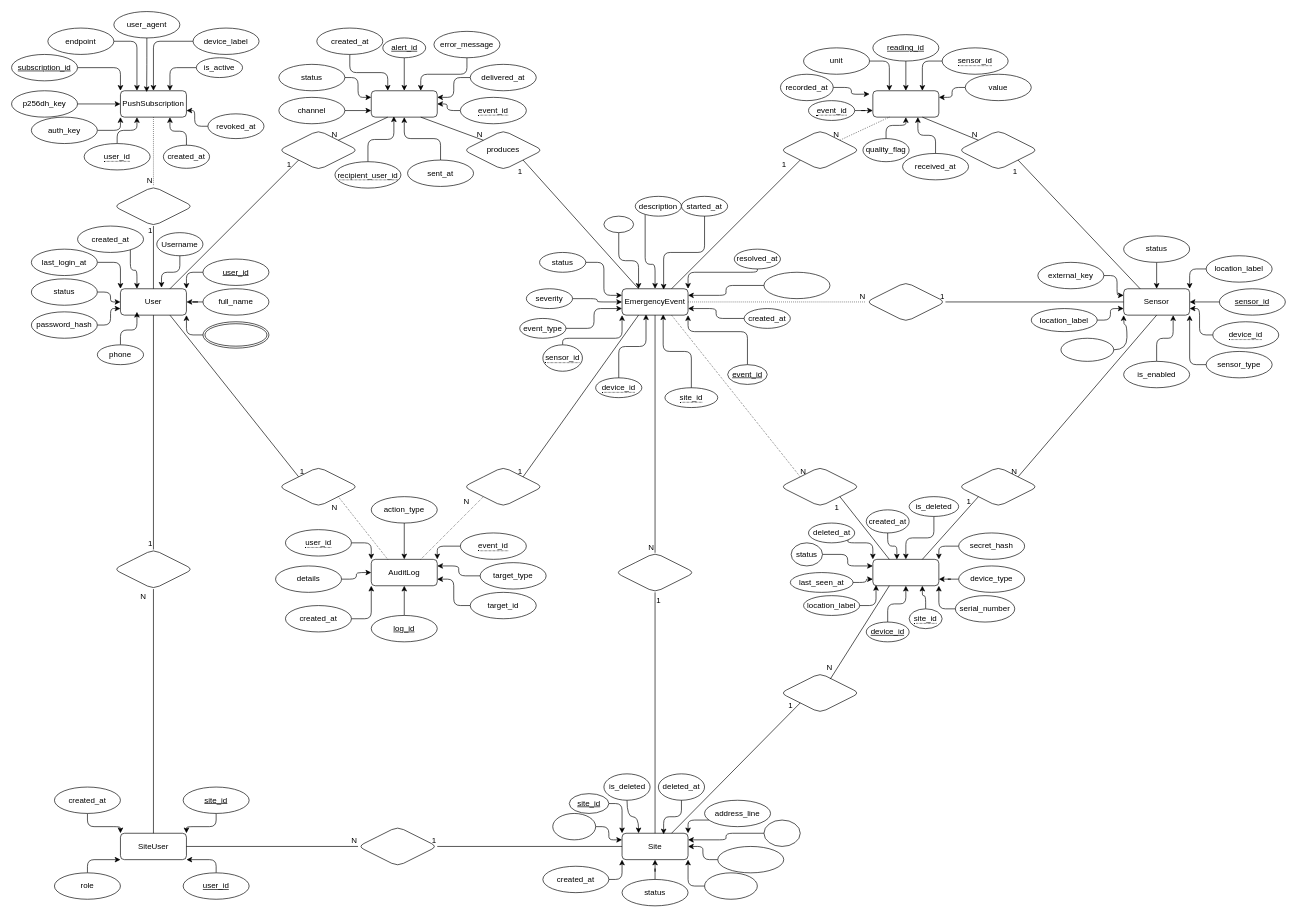
This 1297x917 diagram has some shape labels left out. The box of each missing label's shape, as (x1, y1, x2, y2) in pixels:
acknowledged_at: (763, 272, 830, 299)
AlertNotification: (371, 90, 437, 117)
city: (763, 819, 800, 846)
contains: (958, 466, 1038, 507)
country: (704, 872, 757, 899)
Device: (872, 559, 939, 586)
email: (202, 321, 269, 348)
generates: (958, 130, 1038, 170)
has access: (113, 549, 193, 589)
has events: (615, 552, 695, 592)
hosts: (780, 673, 860, 713)
includes readings: (780, 130, 860, 170)
installed_at: (1060, 338, 1114, 361)
is shared with: (357, 826, 437, 866)
is source of: (866, 281, 945, 322)
is tracked by: (463, 466, 543, 507)
name: (552, 813, 596, 840)
performs: (278, 466, 358, 507)
receives: (278, 130, 358, 170)
security_mode: (717, 846, 784, 873)
SensorReading: (872, 90, 939, 117)
subscribes with: (113, 186, 193, 226)
title: (603, 215, 634, 233)
triggers: (780, 466, 860, 507)
